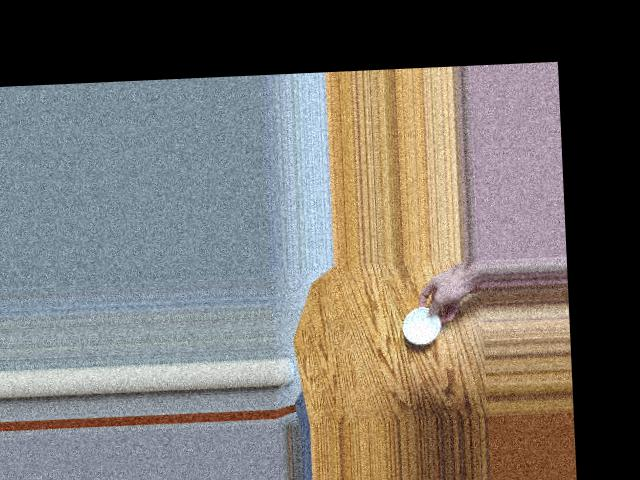cotage: (401, 306, 443, 347)
